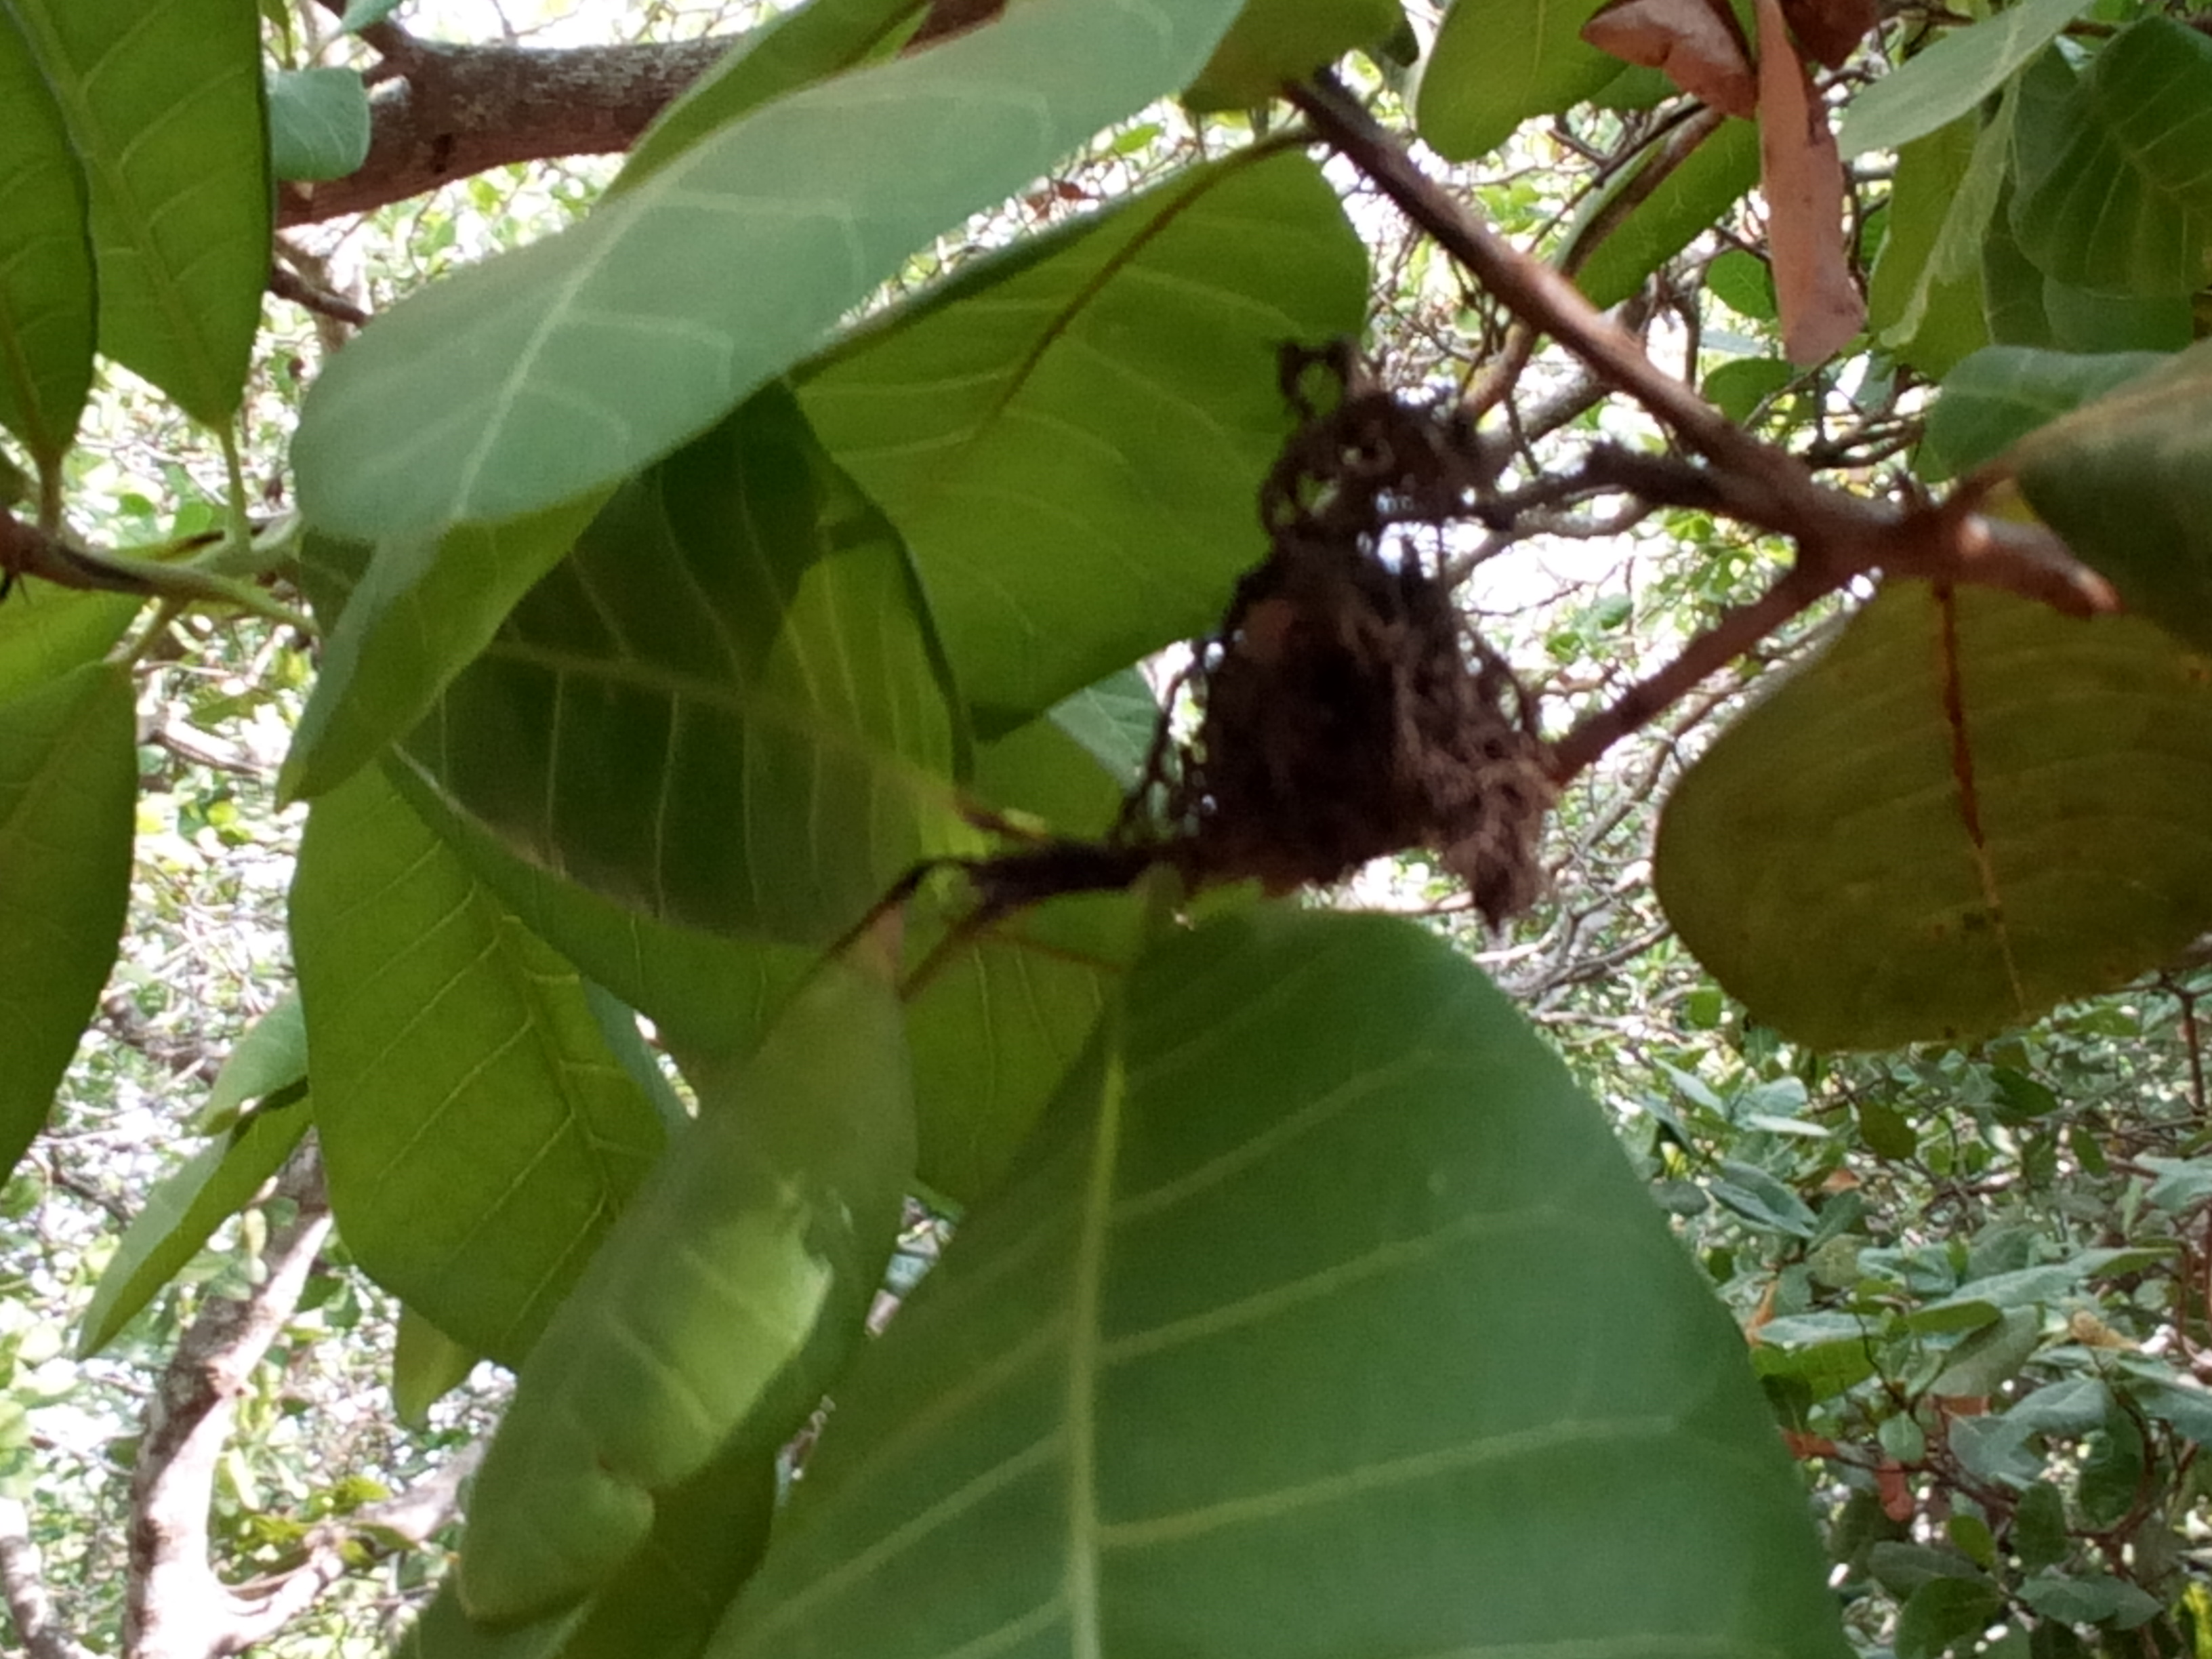Dessèchement des bourgeons: (953, 373, 1791, 948)
